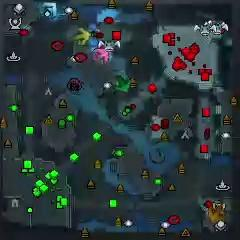x1: (93, 47, 109, 64)
x2: (73, 28, 90, 45)
x3: (42, 2, 57, 17)
x4: (114, 75, 132, 94)
x5: (208, 203, 225, 224)
